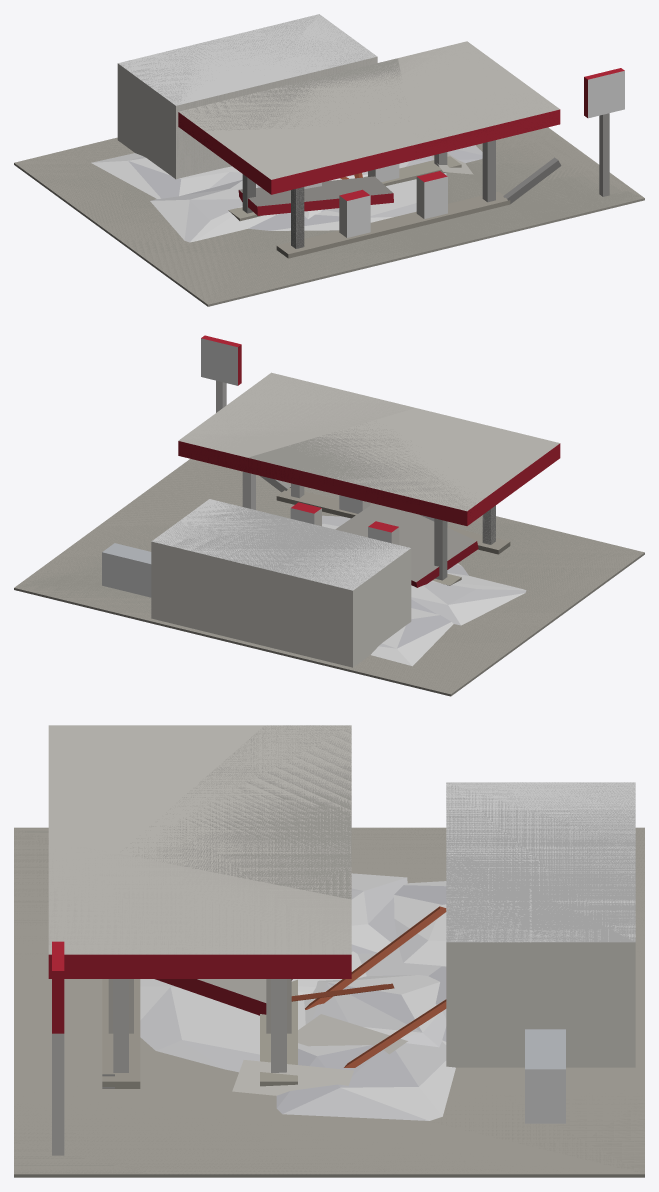
File: bld_gasstation_a.glb
3 views of the same model, one above another, from view 1: azimuth 30°, elevation 25°; view 2: azimuth 150°, elevation 25°; view 3: azimuth 270°, elevation 25° (orthographic). The views are drawn at different scales.
Parts seen in each view (by area): view 1: damaged, chunk_00, intact, rubble, chunk_02, chunk_06, chunk_04, chunk_03, chunk_07, chunk_05, chunk_01, chunk_12 (+2 smaller); view 2: damaged, chunk_00, chunk_02, intact, chunk_03, chunk_01, rubble, chunk_05, chunk_06, chunk_07, chunk_04, chunk_12 (+2 smaller); view 3: damaged, chunk_01, rubble, intact, chunk_03, chunk_06, chunk_07, chunk_00, chunk_05, chunk_04, chunk_02, chunk_12.
Part boxes in pixels (left/top/right/bottom): damaged: left=15, top=14, right=644, bottom=306; chunk_00: left=14, top=137, right=451, bottom=306; intact: left=178, top=42, right=560, bottom=248; rubble: left=91, top=145, right=561, bottom=242; chunk_02: left=117, top=43, right=256, bottom=179; chunk_06: left=359, top=79, right=560, bottom=162; chunk_04: left=229, top=118, right=400, bottom=194; chunk_03: left=198, top=14, right=377, bottom=92; chunk_07: left=310, top=41, right=518, bottom=117; chunk_05: left=178, top=81, right=358, bottom=163; chunk_01: left=436, top=127, right=644, bottom=247; chunk_12: left=584, top=68, right=624, bottom=118; damaged: left=16, top=373, right=642, bottom=695; chunk_00: left=207, top=516, right=644, bottom=696; chunk_02: left=272, top=532, right=411, bottom=667; intact: left=182, top=373, right=560, bottom=544; chunk_03: left=151, top=499, right=320, bottom=647; chunk_01: left=14, top=459, right=372, bottom=636; rubble: left=260, top=476, right=526, bottom=666; chunk_05: left=337, top=450, right=518, bottom=525; chunk_06: left=230, top=372, right=429, bottom=435; chunk_07: left=178, top=403, right=375, bottom=494; chunk_04: left=400, top=411, right=560, bottom=488; chunk_12: left=201, top=335, right=241, bottom=385; damaged: left=14, top=725, right=644, bottom=1174; chunk_01: left=14, top=1021, right=644, bottom=1177; rubble: left=102, top=873, right=455, bottom=1120; intact: left=48, top=725, right=351, bottom=954; chunk_03: left=446, top=846, right=635, bottom=1067; chunk_06: left=48, top=828, right=184, bottom=978; chunk_07: left=184, top=828, right=351, bottom=978; chunk_00: left=14, top=827, right=644, bottom=1020; chunk_05: left=184, top=725, right=351, bottom=827; chunk_04: left=48, top=725, right=184, bottom=827; chunk_02: left=446, top=782, right=635, bottom=845; chunk_12: left=52, top=941, right=64, bottom=1033.
Size of the model in its own units: 26 by 7 by 20.
